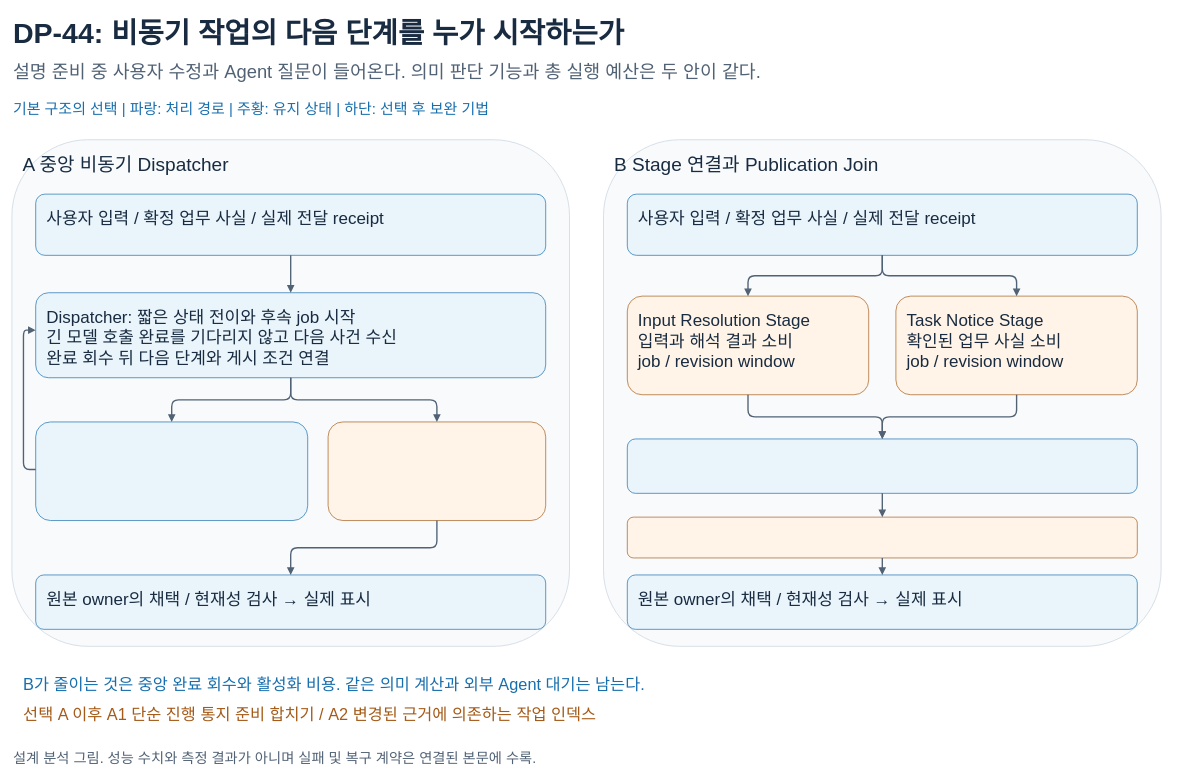
Image size: 1183x779. Some labels were removed from this diagram. The centre of each missing label's shape, as x and y in pixels:
Publication Join: 후보 / 허가 / source / 전달 참조: the point at 882,537
Response Composer: 해당 응답에 필요한 입력만 결합: the point at 882,465
공통 bounded worker 자료 읽기 / 의미 판단 응답 준비 작업: the point at 171,471
중앙 실행 상태 job / continuation revision / candidate: the point at 436,471
